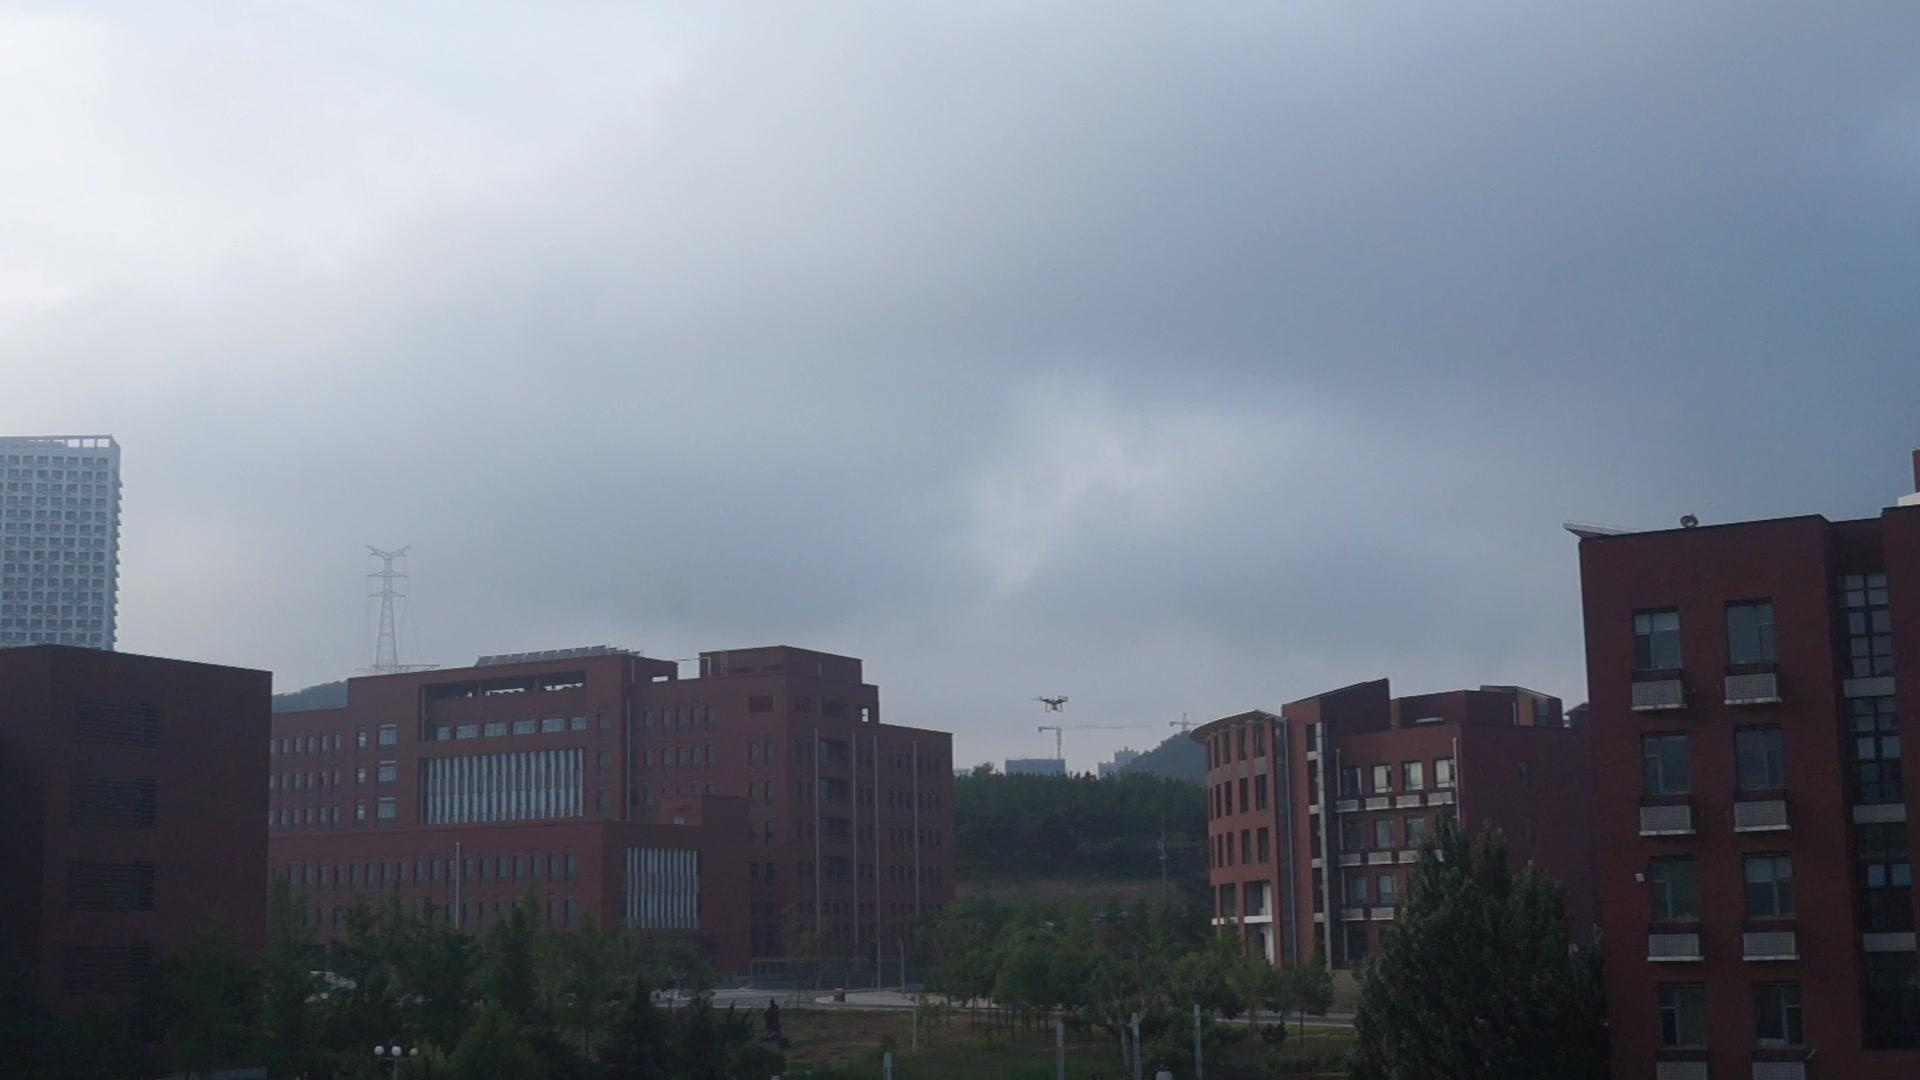UAV: (1034, 698, 1069, 713)
